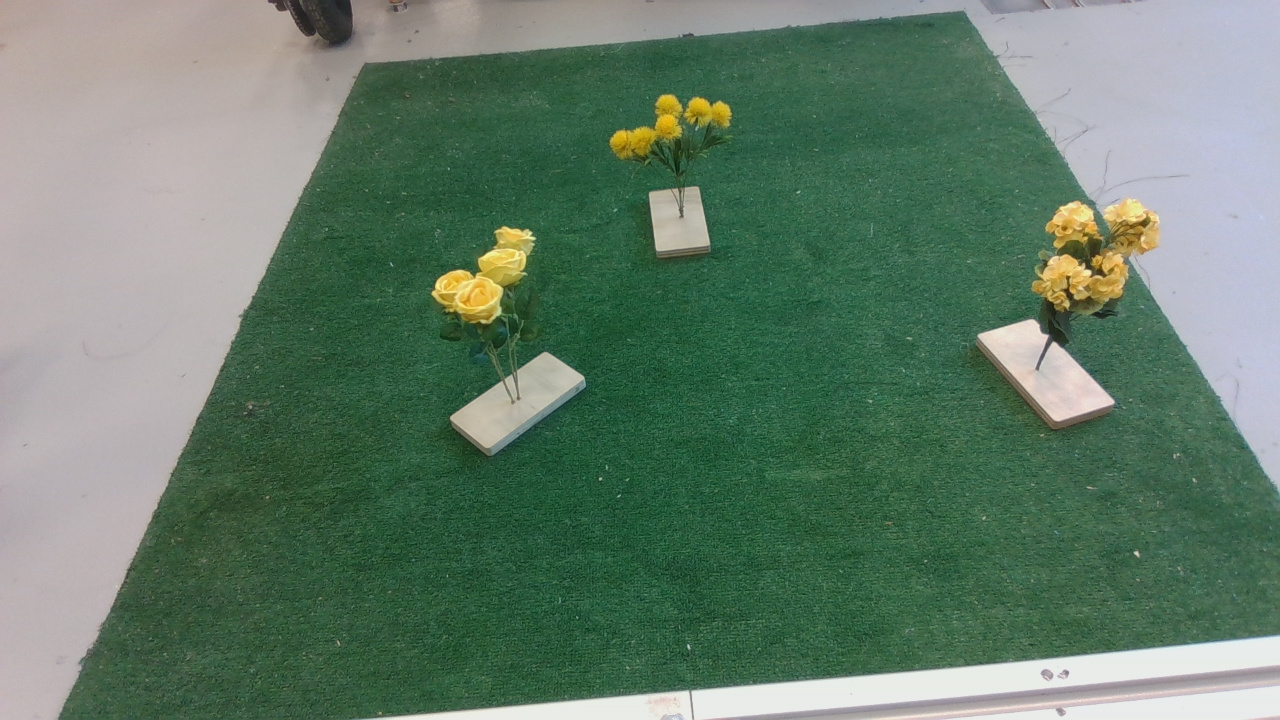dandelion: (603, 97, 744, 188)
geranium: (1028, 199, 1185, 356)
rose: (432, 223, 553, 369)
